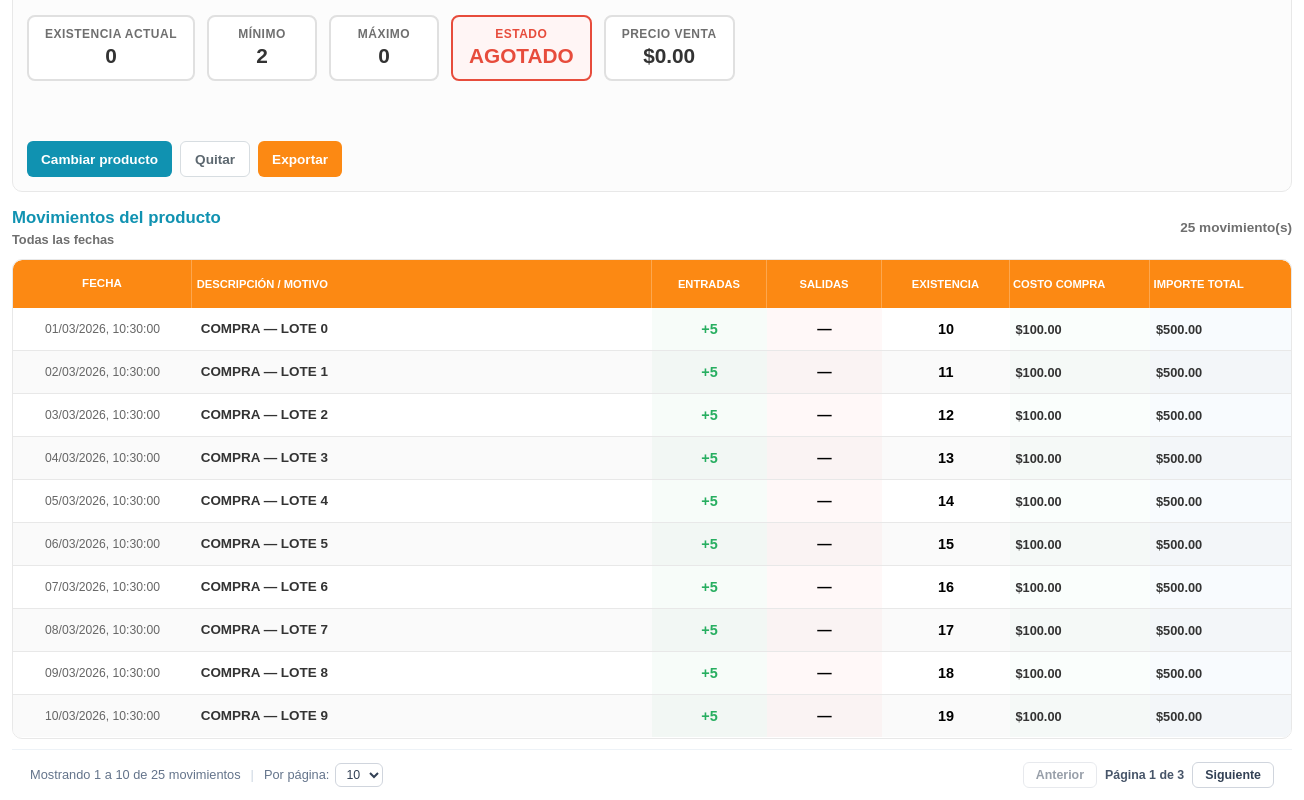
Test: KardexProductPanel › cambia el tamano de pagina y vuelve a la primera pagina
Click the button "Siguiente" at (1233,775), box [1192,762,1274,788]
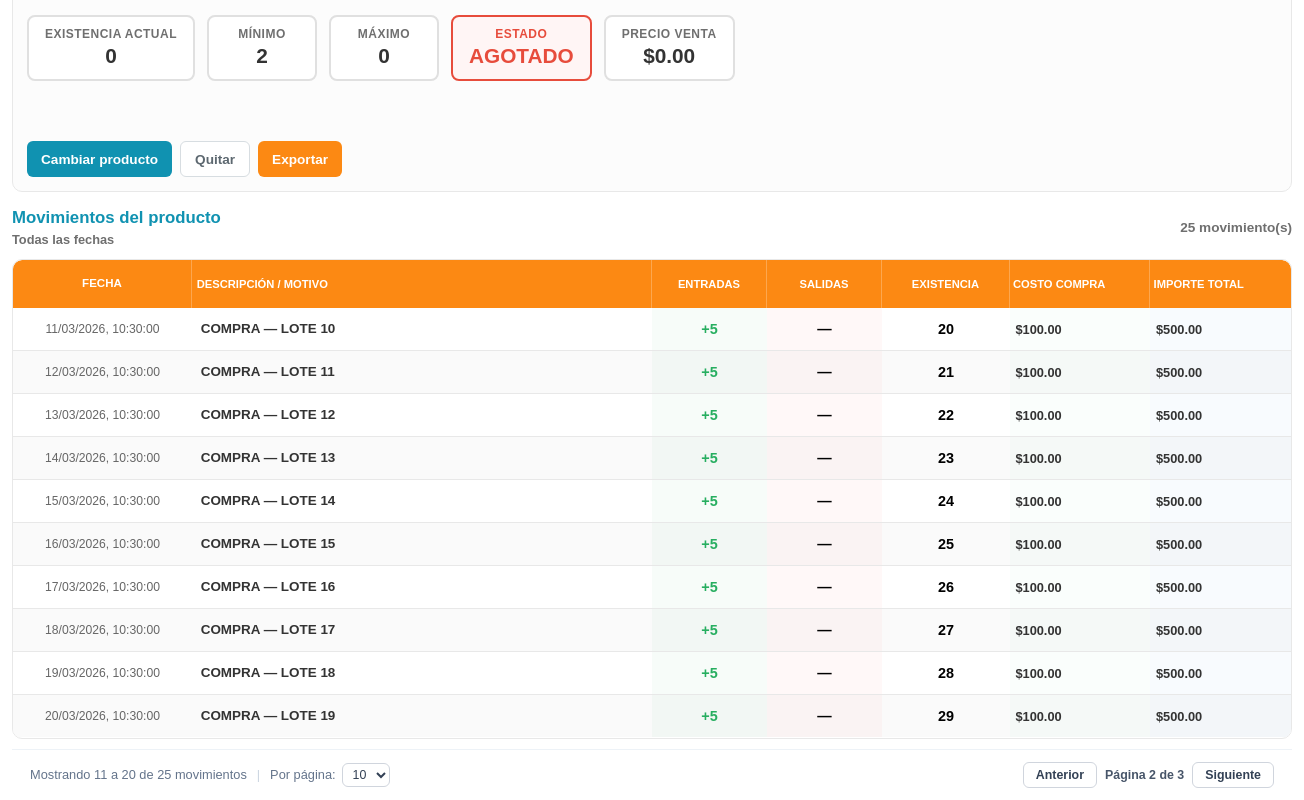
Expected: the text "Página 2 de 3" is shown, [1105,768,1184,782]
Select "25" in the dropdown at (366,775), box [342,763,390,787]
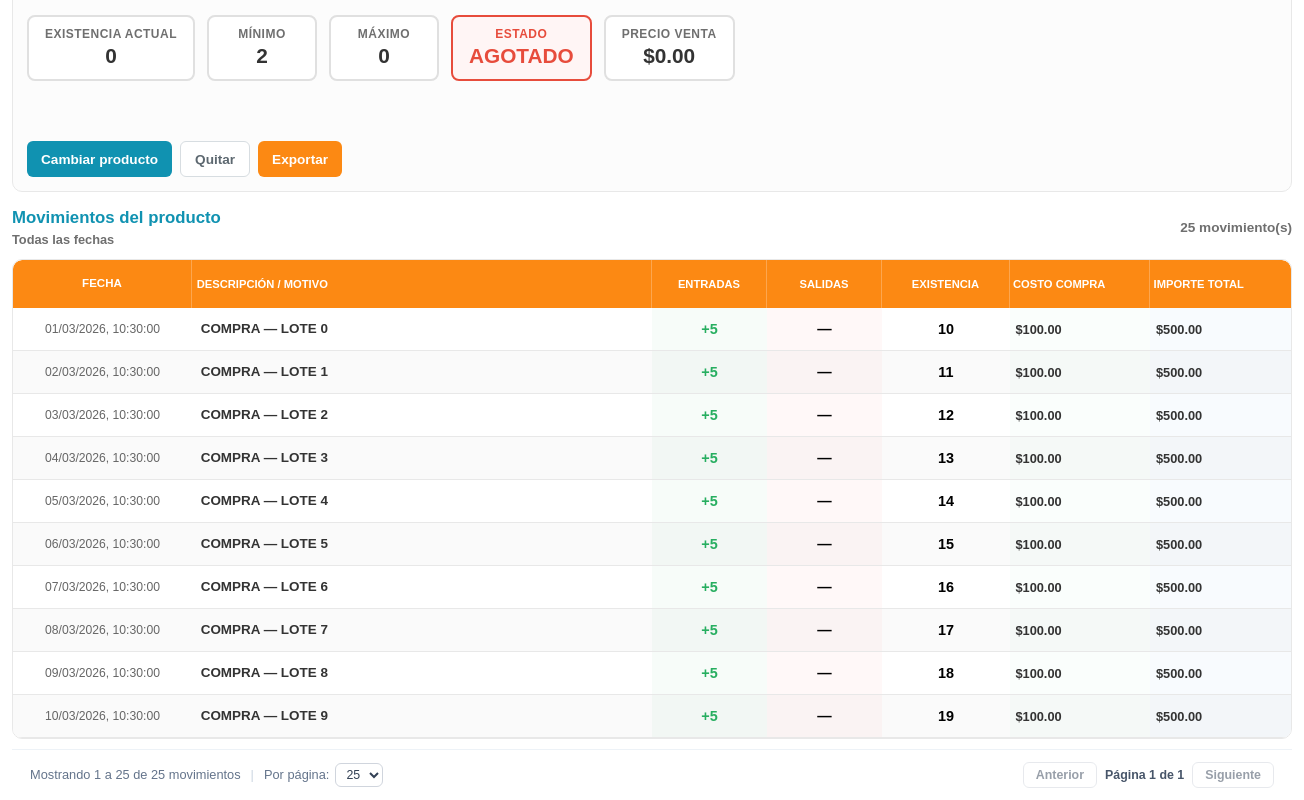
Expected: the text "Página 1 de 1" is shown, [1105,768,1184,782]
Expected: the text "Mostrando 1 a 25 de 25 movimientos" is shown, [30,767,241,782]
